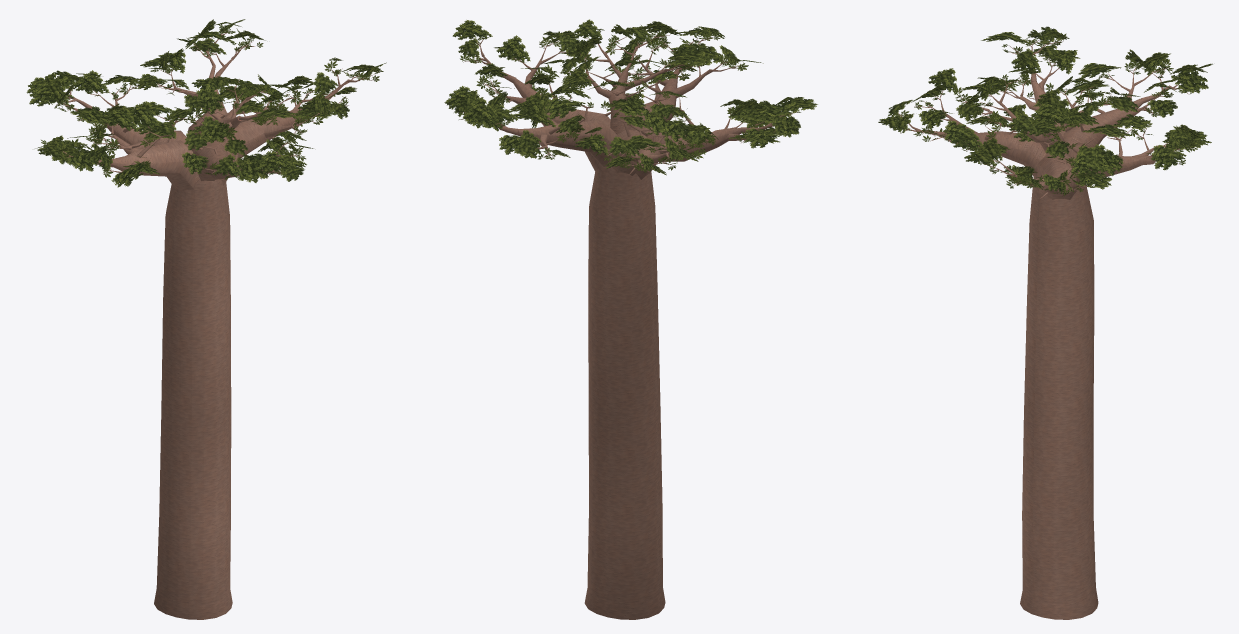
The model's file is Baoba_04_Grandidieri_Alameda.glb.
3 renders of one model, left to right at view 1: azimuth 30°, elevation 25°; view 2: azimuth 150°, elevation 25°; view 3: azimuth 270°, elevation 25°, orthographic. The views are drawn at different scales.
Parts seen in each view (by area): view 1: Tronco, Tufos da copa, Bracos principais, Folhas palmadas, Ramos secundarios, Ramos finos, Ponteiras; view 2: Tronco, Tufos da copa, Bracos principais, Folhas palmadas, Ramos secundarios, Ramos finos, Ponteiras; view 3: Tronco, Tufos da copa, Bracos principais, Folhas palmadas, Ramos secundarios, Ramos finos, Ponteiras.
Boxes of the visible parts, bbox=[...] form: Tronco: bbox=[154, 179, 232, 619]; Tufos da copa: bbox=[26, 19, 386, 187]; Bracos principais: bbox=[99, 76, 302, 191]; Folhas palmadas: bbox=[41, 24, 379, 179]; Ramos secundarios: bbox=[70, 51, 347, 175]; Ramos finos: bbox=[63, 39, 363, 173]; Ponteiras: bbox=[56, 32, 374, 175]; Tronco: bbox=[584, 166, 665, 619]; Tufos da copa: bbox=[444, 19, 817, 175]; Bracos principais: bbox=[513, 70, 741, 179]; Folhas palmadas: bbox=[459, 27, 800, 172]; Ramos secundarios: bbox=[483, 48, 771, 163]; Ramos finos: bbox=[476, 38, 774, 167]; Ponteiras: bbox=[462, 34, 796, 172]; Tronco: bbox=[1020, 177, 1098, 619]; Tufos da copa: bbox=[878, 26, 1212, 194]; Bracos principais: bbox=[974, 81, 1149, 199]; Folhas palmadas: bbox=[887, 33, 1203, 196]; Ramos secundarios: bbox=[920, 72, 1167, 191]; Ramos finos: bbox=[907, 44, 1179, 193]; Ponteiras: bbox=[898, 40, 1198, 194].
Bounding box in the file's own units: 18.72 × 26.41 × 16.4.
Materials: 3 (3 with a texture image).
